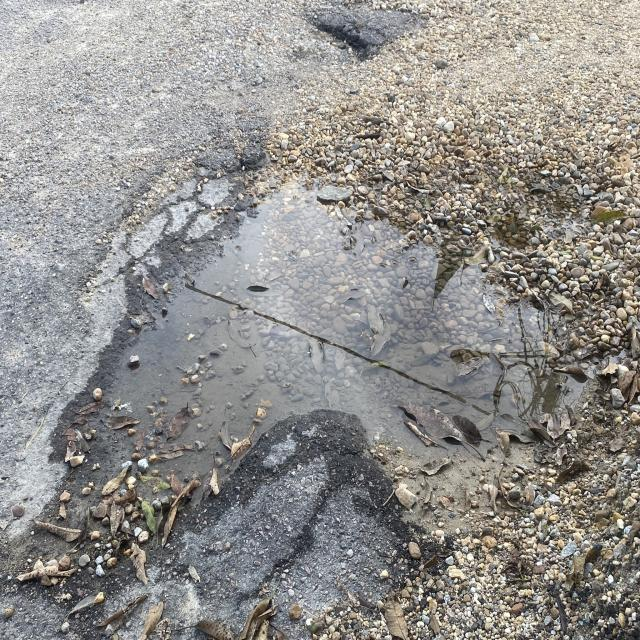Pothole: (63, 142, 366, 611), (262, 0, 378, 42)
